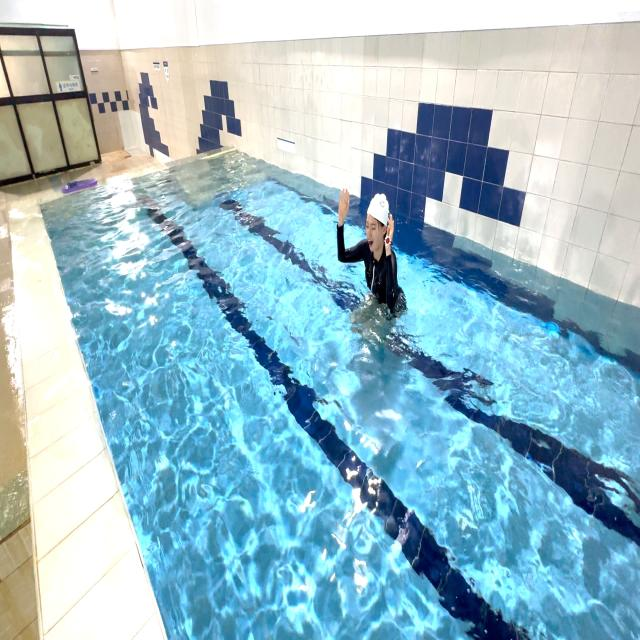Swimming: (336, 187, 408, 337)
